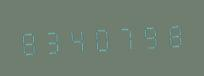eight: (17, 24, 40, 59), (161, 16, 184, 51)
four: (65, 21, 88, 56)
nine: (137, 18, 160, 52)
seven: (113, 19, 136, 54)
three: (41, 23, 64, 57)
zero: (89, 20, 112, 55)
